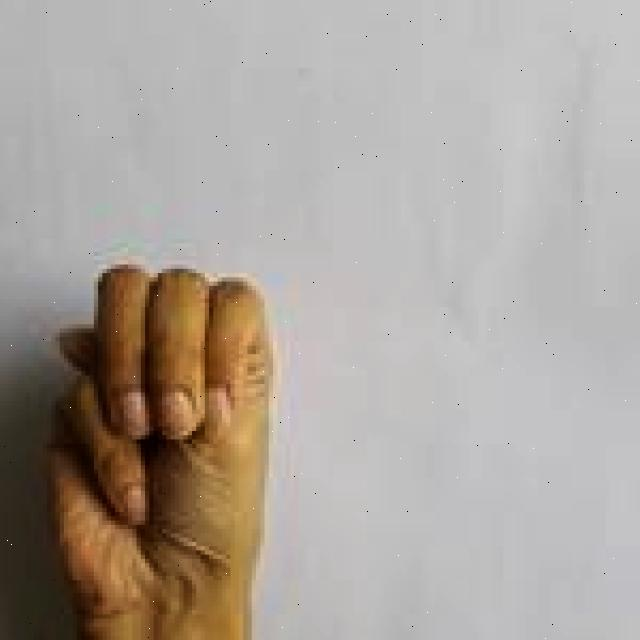M: (36, 257, 277, 640)
